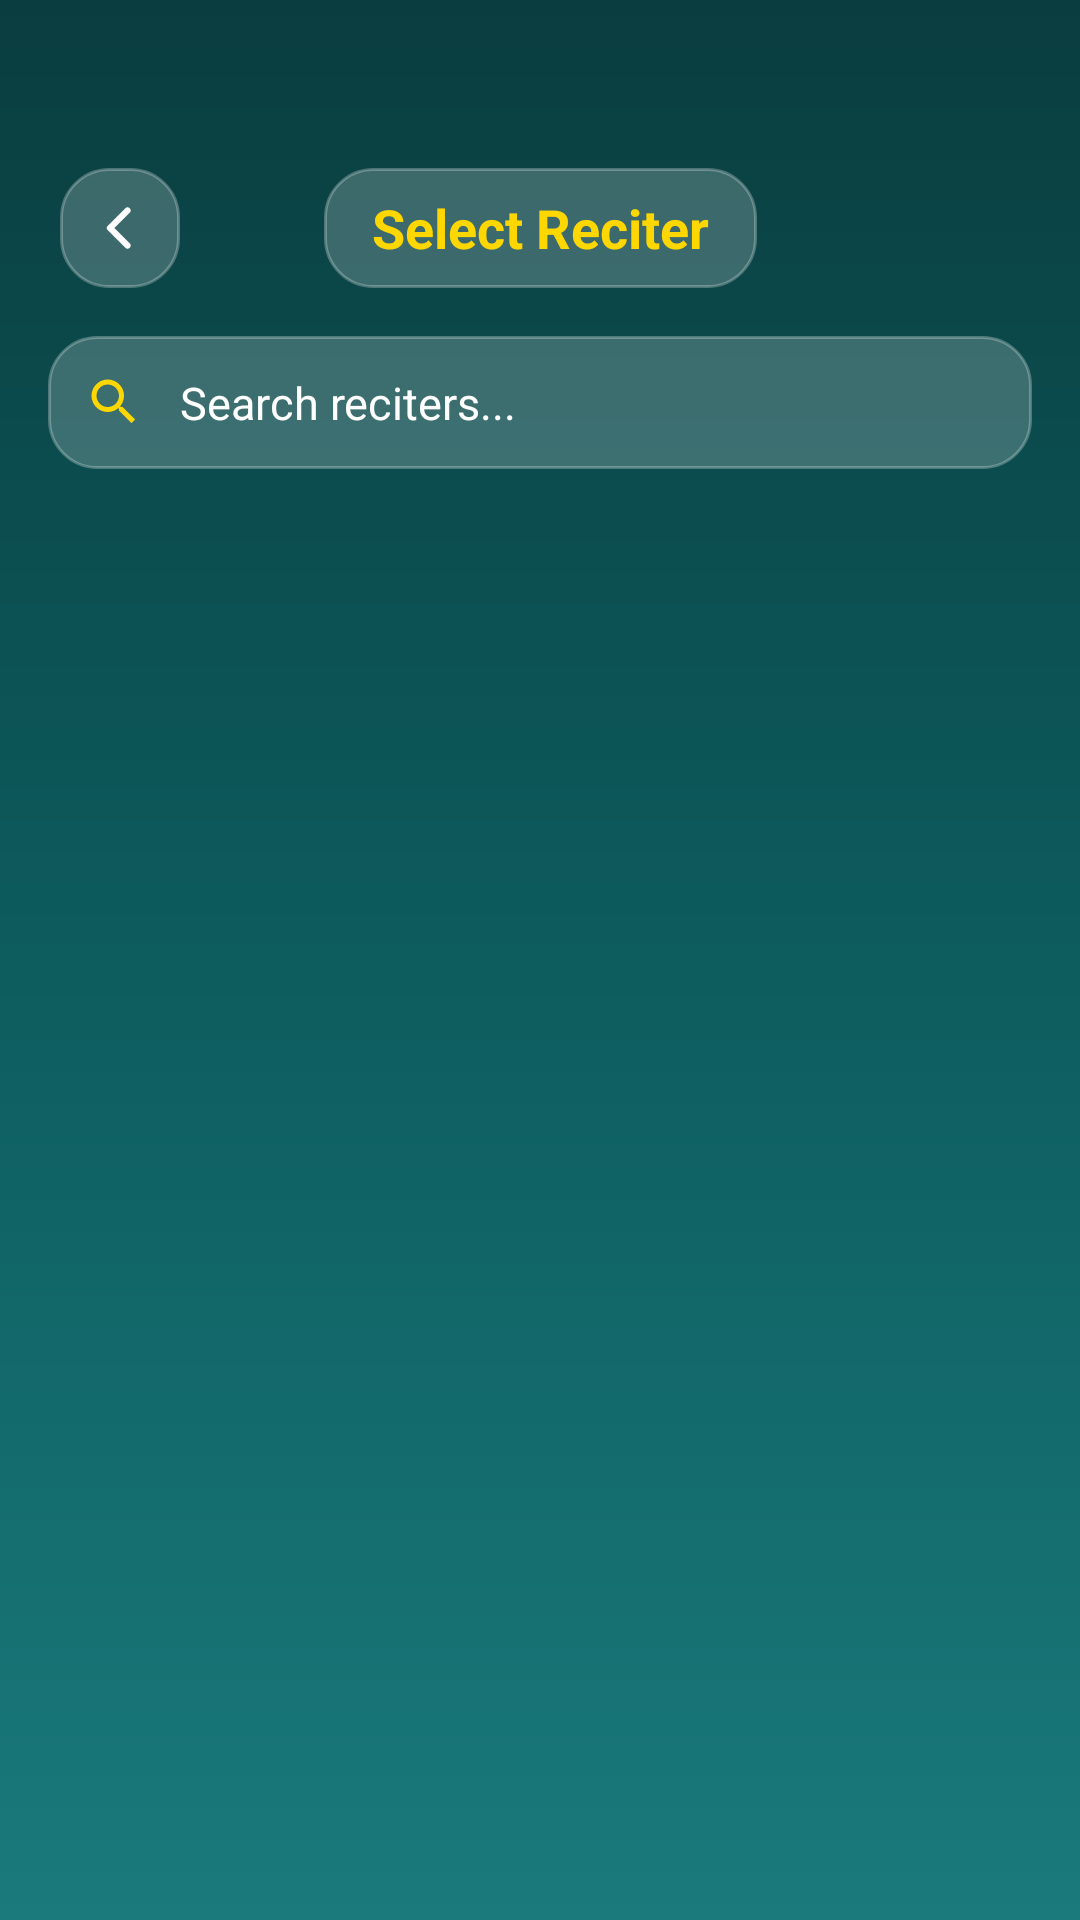

Locate icon controls on the screen. Image size 1080 × 1920, boxes as Rect(x1, y1, x2, y2).
Back: Rect(60, 168, 180, 288)
